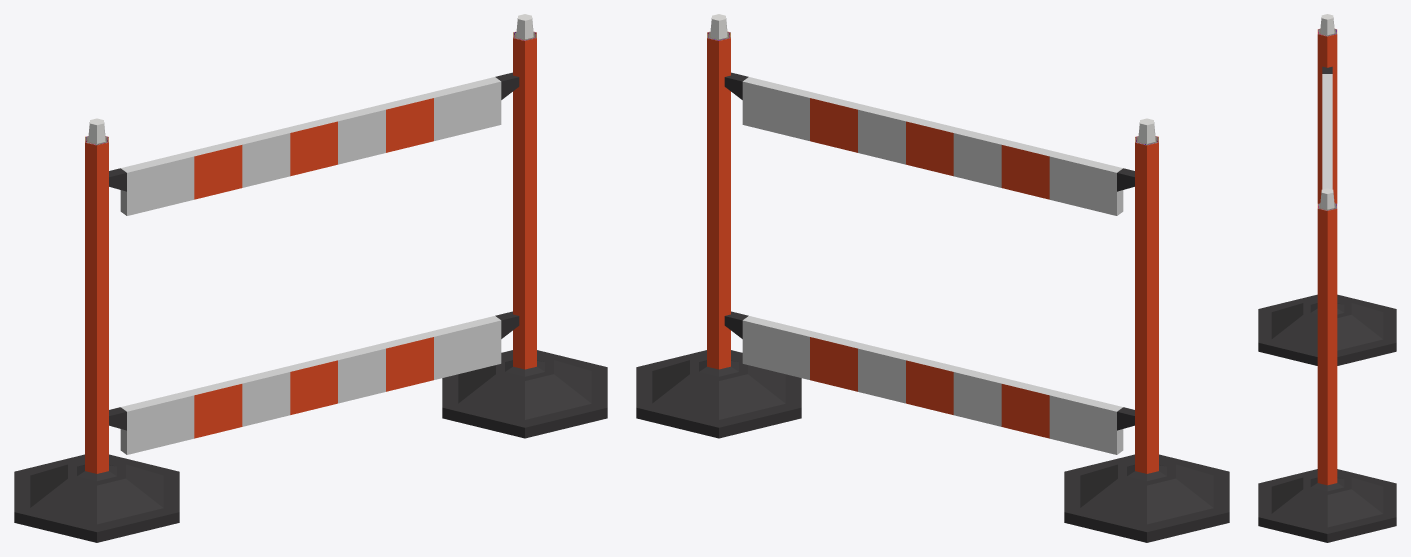
The model's file is Barrier2.fbx.
3 views of the same model, side by side, from view 1: azimuth 30°, elevation 25°; view 2: azimuth 150°, elevation 25°; view 3: azimuth 270°, elevation 25° (orthographic). The views are drawn at different scales.
Parts seen in each view (by area): view 1: mesh; view 2: mesh; view 3: mesh.
Boxes of the visible parts, x1,y1,x2,y2 form: mesh: (14,14,607,542); mesh: (636,14,1229,542); mesh: (1258,14,1396,542).
Size of the model in its own units: 173 by 106 by 41.67.
